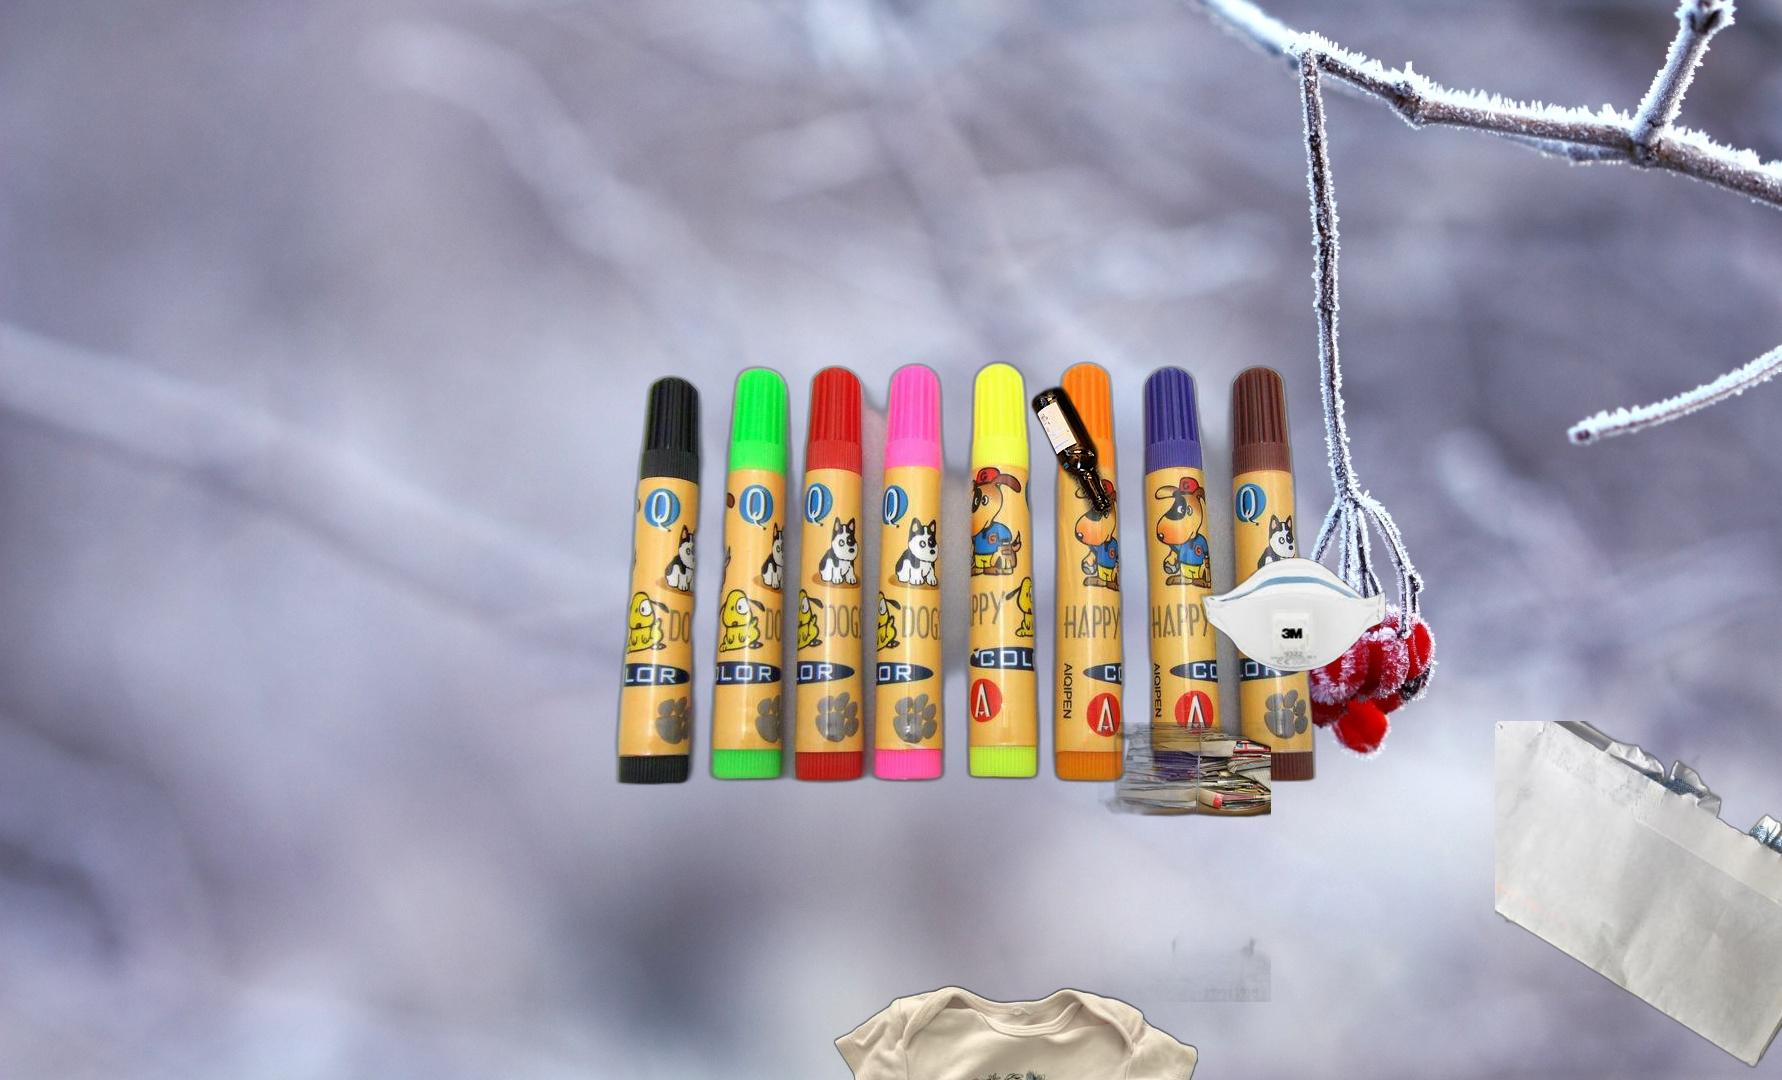clothes: (830, 981, 1198, 1080)
glass: (1028, 380, 1118, 521)
paper: (1496, 721, 1782, 1070)
penholder: (610, 357, 1322, 790)
trash: (1196, 555, 1387, 675)
trashbox-cardboard: (1098, 722, 1272, 1002)
